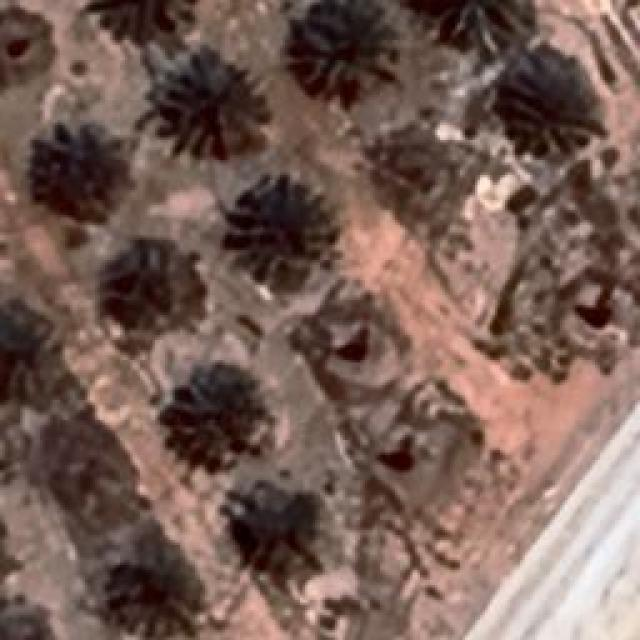PalmTree: (31, 65, 94, 353), (148, 48, 268, 160), (287, 0, 397, 92), (500, 56, 595, 162), (226, 188, 334, 278), (160, 376, 270, 464), (220, 490, 322, 575), (96, 551, 194, 639), (28, 125, 114, 217), (100, 246, 182, 334), (432, 0, 526, 48), (0, 598, 55, 640), (94, 19, 138, 65)
